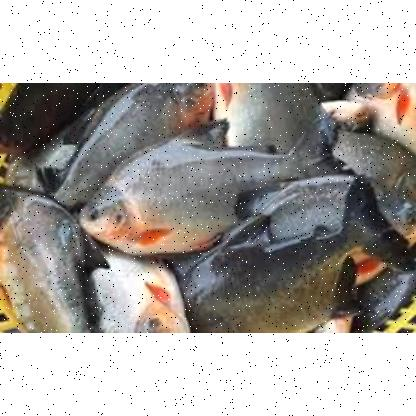ikan-pacu: (175, 205, 411, 331), (81, 132, 304, 250), (82, 252, 190, 332)
